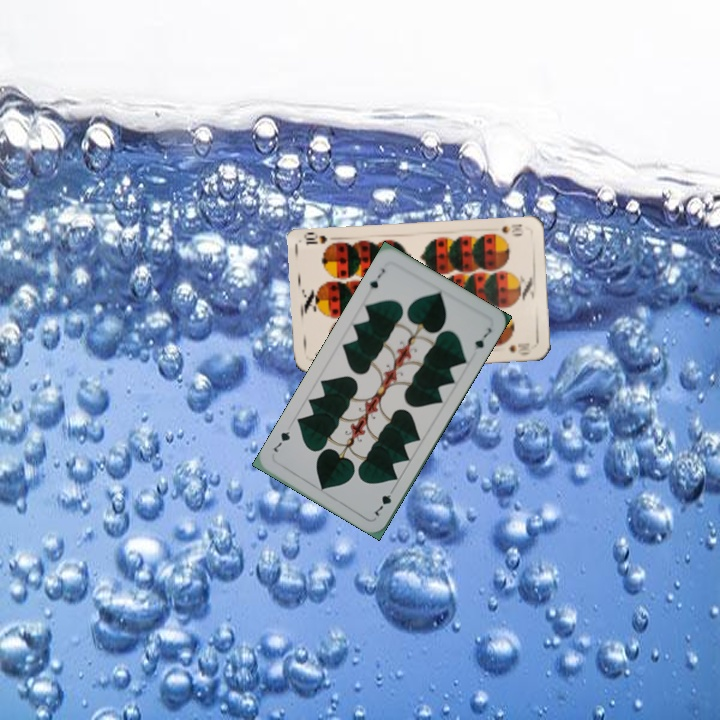G7: (370, 483, 396, 519), (365, 264, 388, 291)
S10: (498, 220, 524, 238)
